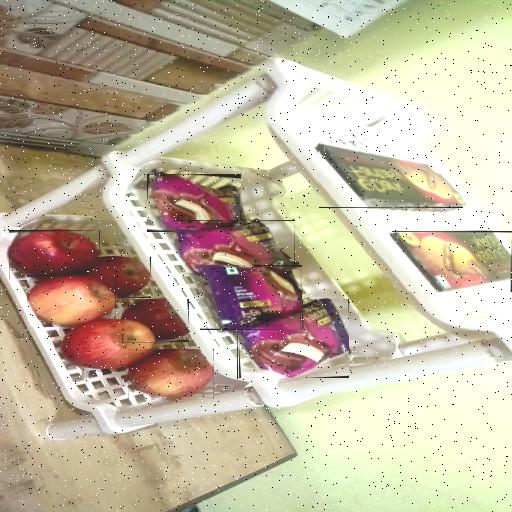Apple: (27, 275, 116, 327), (9, 230, 100, 279), (128, 350, 214, 400), (122, 300, 189, 344), (87, 257, 151, 298)
Choco Fills: (318, 142, 462, 208), (392, 231, 512, 292)
Choco Pie: (236, 300, 348, 380), (174, 220, 295, 274), (200, 265, 301, 329), (147, 174, 241, 232)
